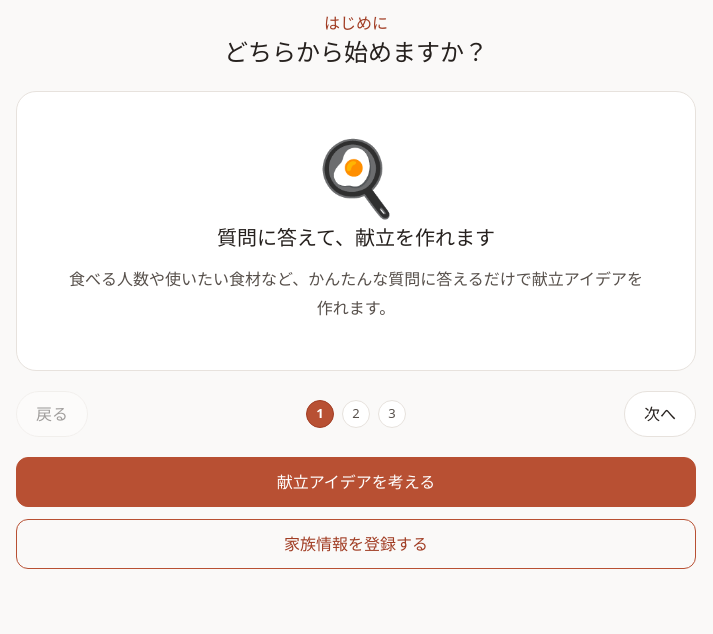
Test case: L14: failed start focuses the alert for keyboard users
Click the button "献立アイデアを考える": x=356, y=482 [16,457,696,507]
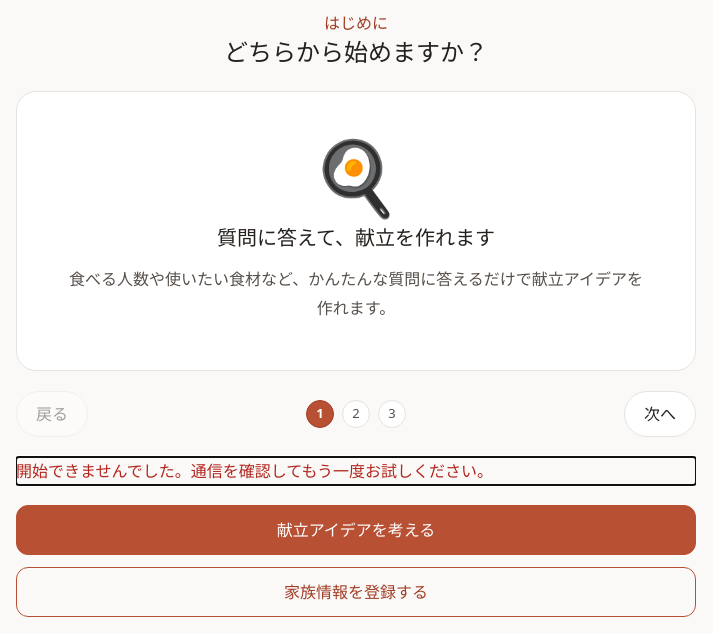
Result: the message shows "開始できませんでした" at [16,460,493,482]
